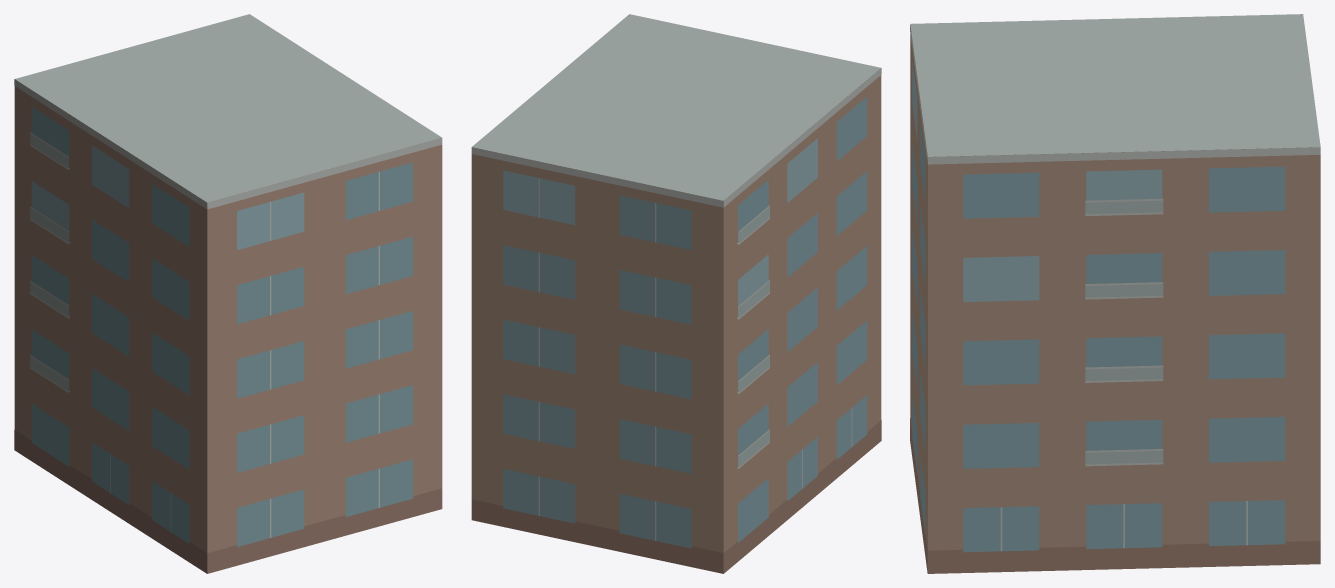
Rendered from survey-upis-32946432.glb.
3 renders of one model, left to right at view 1: azimuth 30°, elevation 25°; view 2: azimuth 150°, elevation 25°; view 3: azimuth 270°, elevation 25°, orthographic. The views are drawn at different scales.
Parts seen in each view (by area): view 1: survey-upis-32946432.tmp; view 2: survey-upis-32946432.tmp; view 3: survey-upis-32946432.tmp.
Part boxes in pixels (left/top/right/bottom): survey-upis-32946432.tmp: left=14, top=14, right=442, bottom=573; survey-upis-32946432.tmp: left=471, top=14, right=881, bottom=573; survey-upis-32946432.tmp: left=910, top=14, right=1320, bottom=573.
Bounding box in the file's own units: 9.79 × 13.3 × 11.88.
